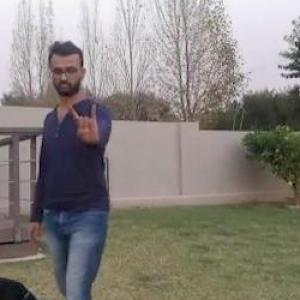takeoff-hand: (66, 100, 102, 145)
